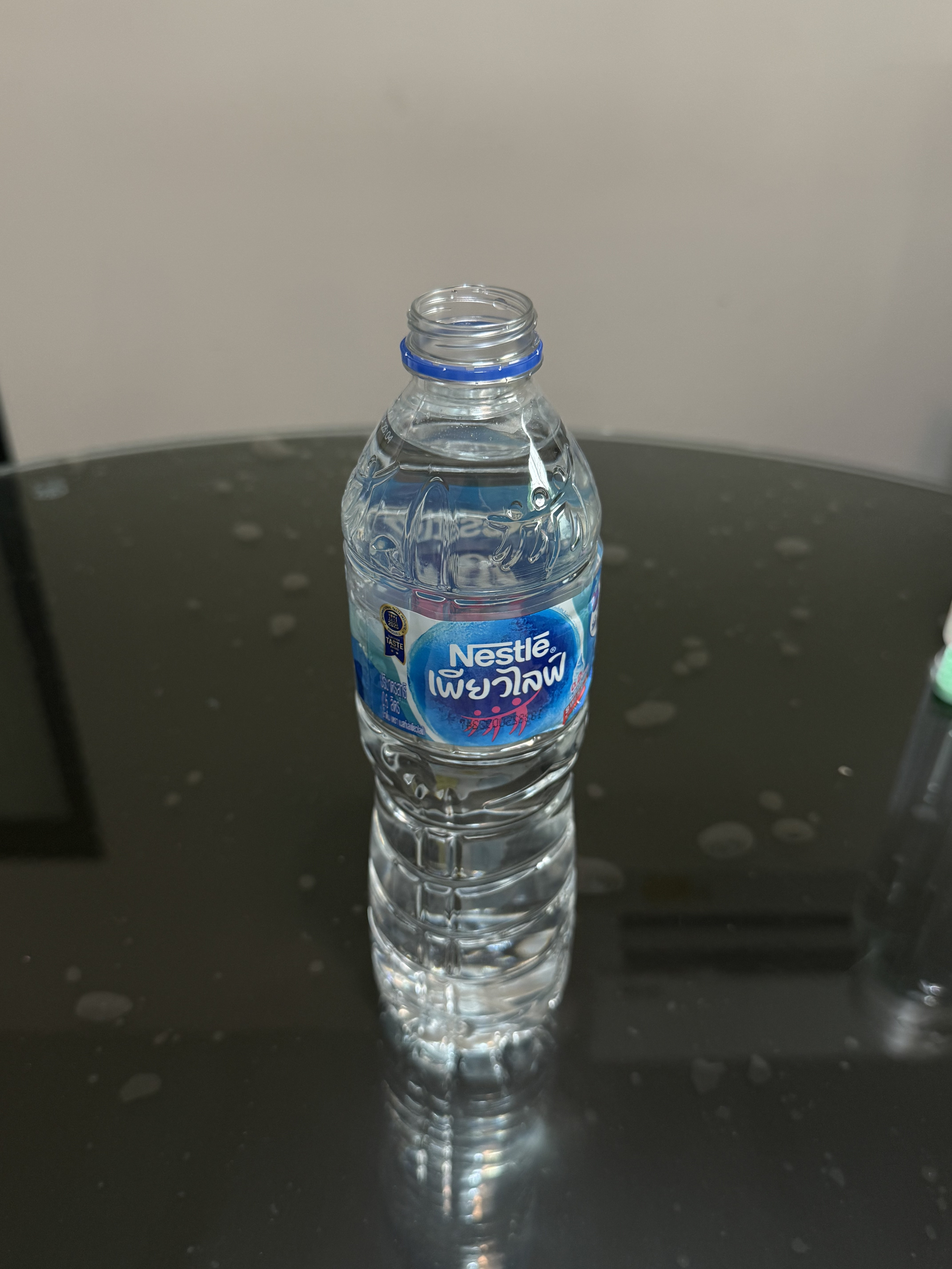no_cap: (398, 281, 545, 382)
